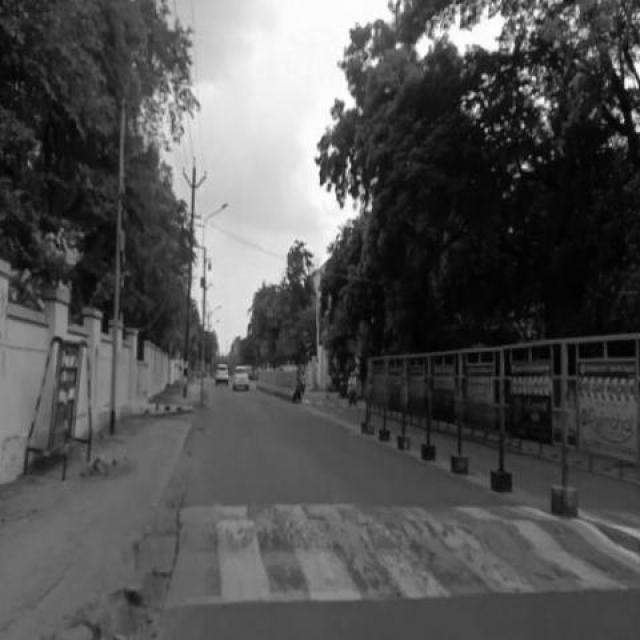Pothole: (87, 580, 150, 640)
Speed Bump: (162, 502, 638, 610)
